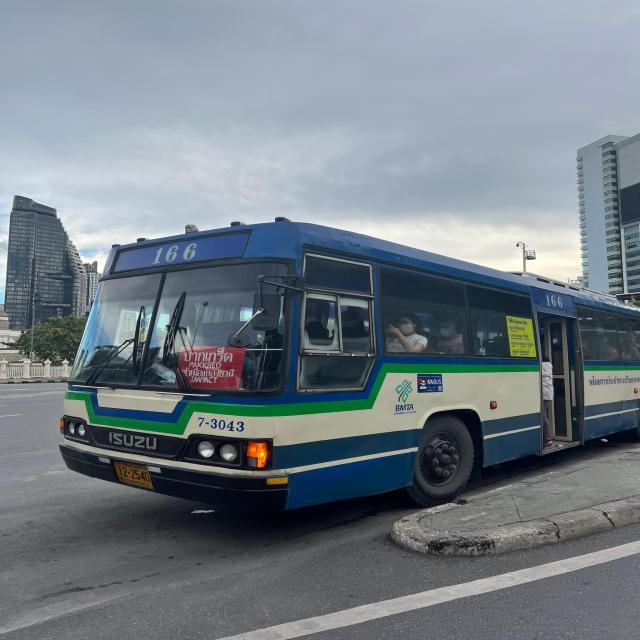BMTA-bus: (52, 212, 640, 522)
Bus-Line-Number: (153, 238, 200, 265)
Destination-Sign-Extra-Bus: (182, 345, 247, 395)
